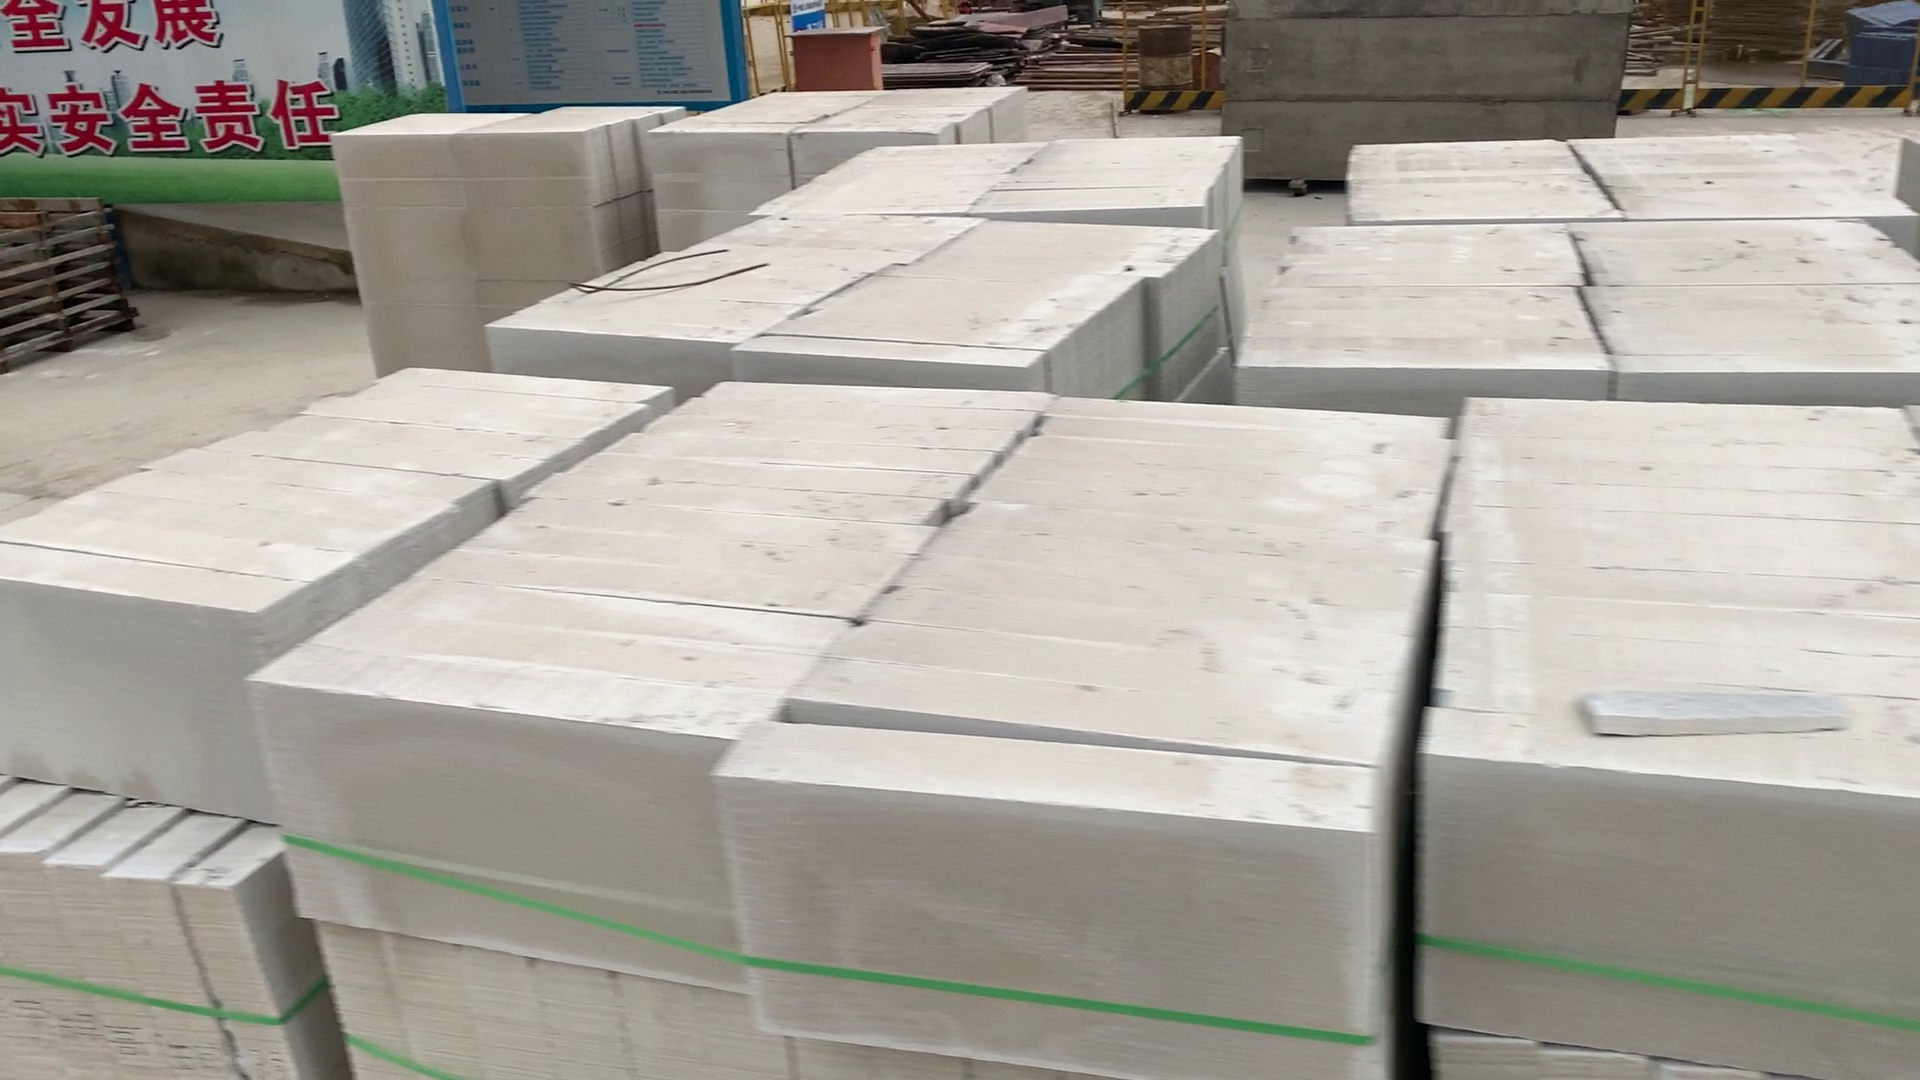brickwork: (309, 371, 1408, 1080), (7, 349, 662, 1065), (1433, 389, 1920, 1072), (512, 210, 1224, 384), (1242, 216, 1917, 398), (335, 91, 626, 293), (1342, 125, 1913, 225), (653, 84, 1002, 185), (793, 142, 1226, 220)
